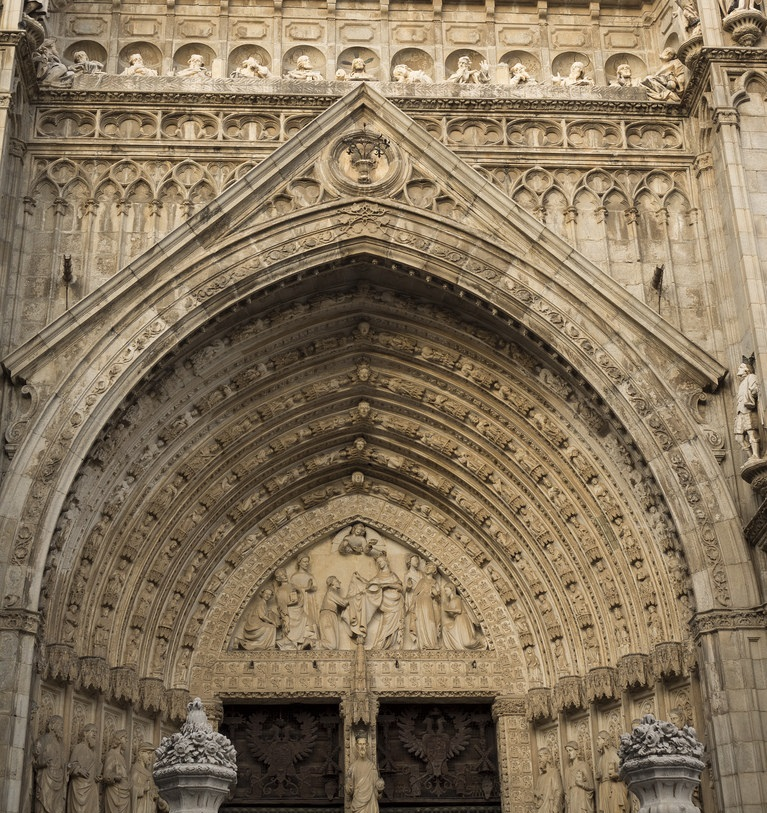arco-apuntado: (33, 233, 701, 613)
